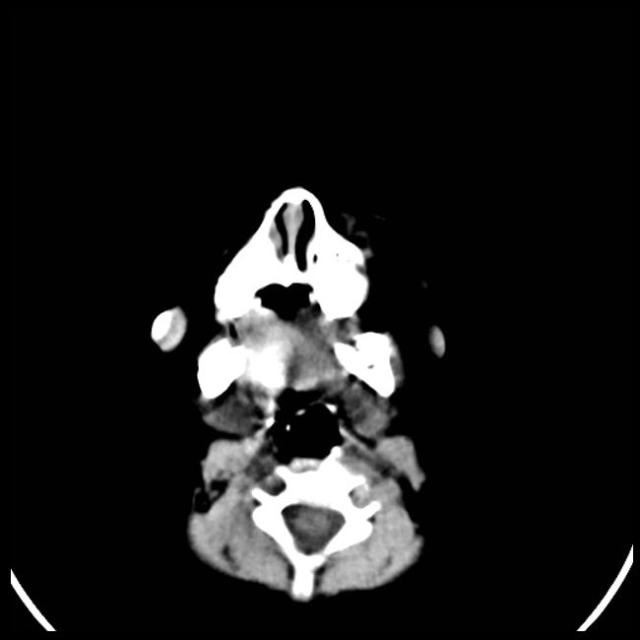lesion: (144, 179, 448, 608)
